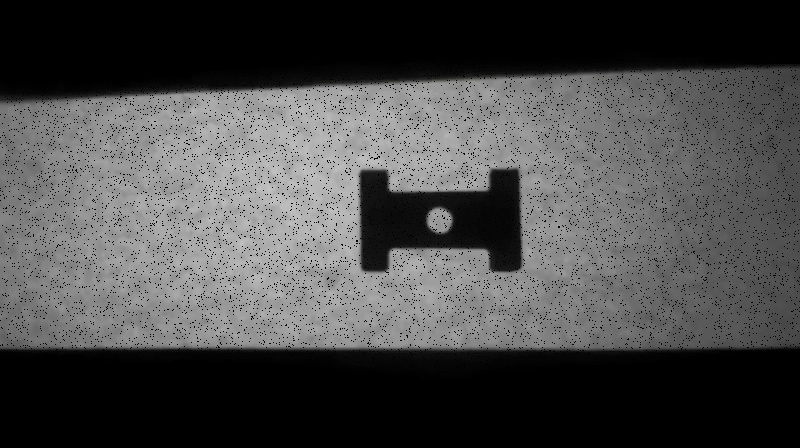O002: (353, 164, 526, 276)
